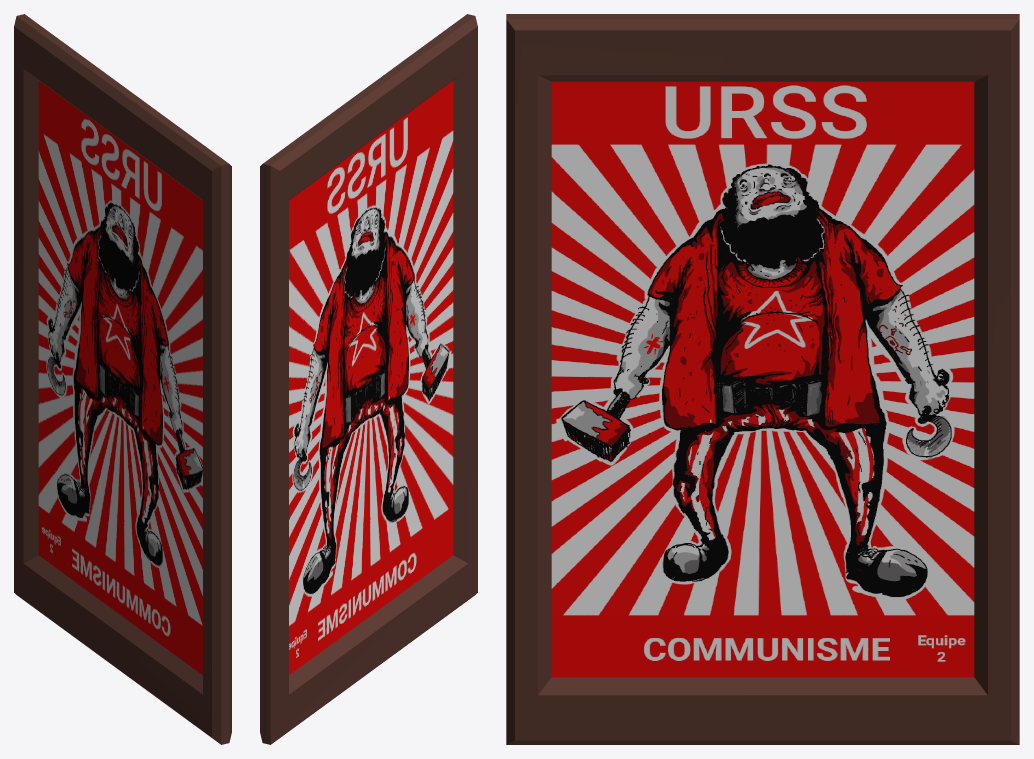
The model's file is cadre.fbx.
3 renders of one model, left to right at view 1: azimuth 30°, elevation 25°; view 2: azimuth 150°, elevation 25°; view 3: azimuth 270°, elevation 25°, orthographic. The views are drawn at different scales.
Visible parts, largest first — view 1: pCube2; view 2: pCube2; view 3: pCube2.
Part boxes in pixels (<box>): pCube2: <box>14,14,231,744</box>; pCube2: <box>260,14,477,744</box>; pCube2: <box>506,14,1019,744</box>.
Bounding box in the file's own units: 8.41 × 233 × 149.
Materials: 2 (1 with a texture image).
